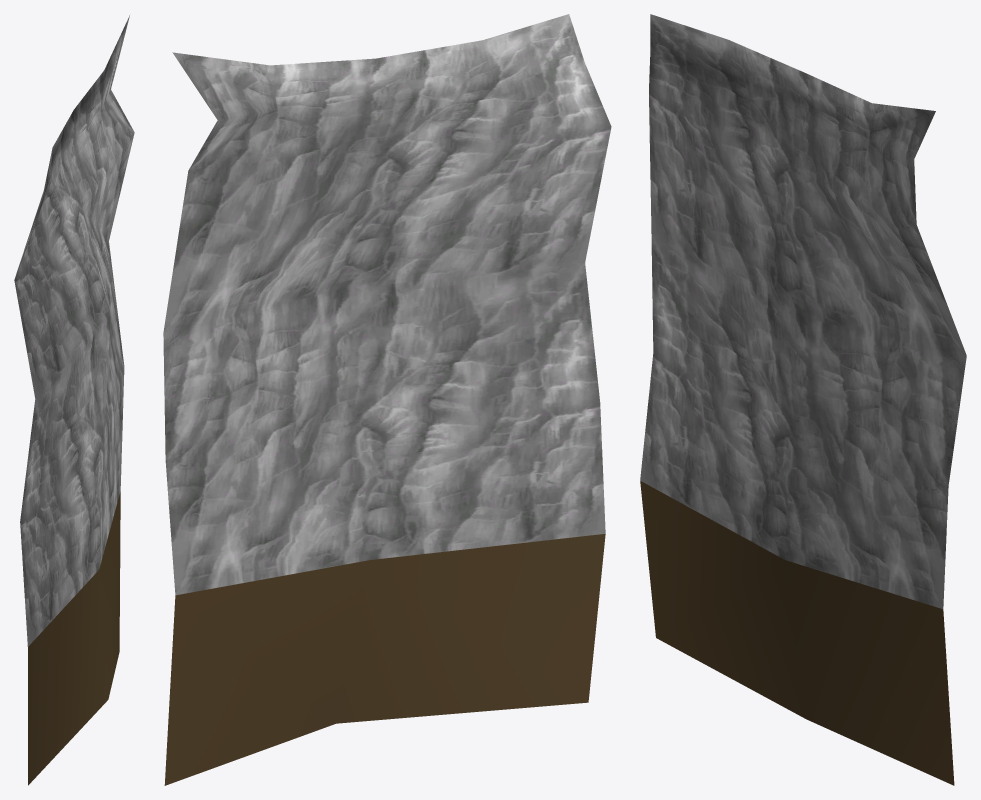
File: SWORDLIGHT20_PS-AREA03_68.fbx
3 renders of one model, left to right at view 1: azimuth 30°, elevation 25°; view 2: azimuth 150°, elevation 25°; view 3: azimuth 270°, elevation 25°, orthographic. The views are drawn at different scales.
Visible parts, largest first — view 1: SWORDLIGHT20_PS-AREA03_68; view 2: SWORDLIGHT20_PS-AREA03_68; view 3: SWORDLIGHT20_PS-AREA03_68.
Boxes of the visible parts, box(x1,y1,x2,y2) form: SWORDLIGHT20_PS-AREA03_68: box(14, 15, 134, 785); SWORDLIGHT20_PS-AREA03_68: box(163, 14, 611, 785); SWORDLIGHT20_PS-AREA03_68: box(640, 14, 966, 785).
Size of the model in its own units: 82041 by 199608 by 87432.
Materials: 2 (2 with a texture image).
